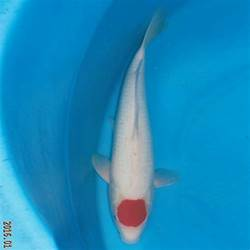sun: (91, 8, 176, 243)
